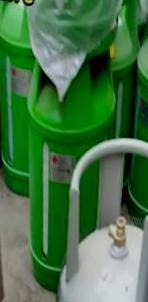cylinder: (1, 0, 148, 302)
